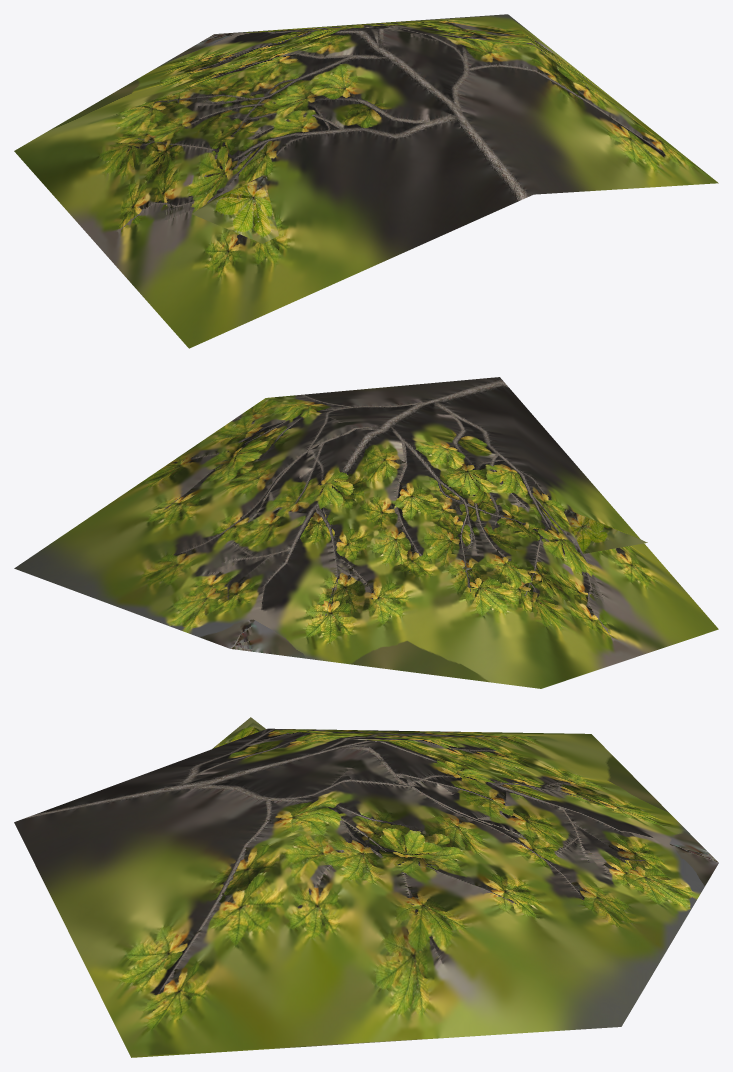
File: Chestnut Branch Highres.fbx
3 renders of one model, top to bottom at view 1: azimuth 30°, elevation 25°; view 2: azimuth 150°, elevation 25°; view 3: azimuth 270°, elevation 25°, orthographic. The views are drawn at different scales.
Visible parts, largest first — view 1: Polygon; view 2: Polygon; view 3: Polygon.
Part boxes in pixels (x1,y1,x2,y2): Polygon: (14,14,718,348); Polygon: (14,377,718,688); Polygon: (14,717,718,1057).
Bounding box in the file's own units: 203 × 72.77 × 200.
Materials: 1 (1 with a texture image).
